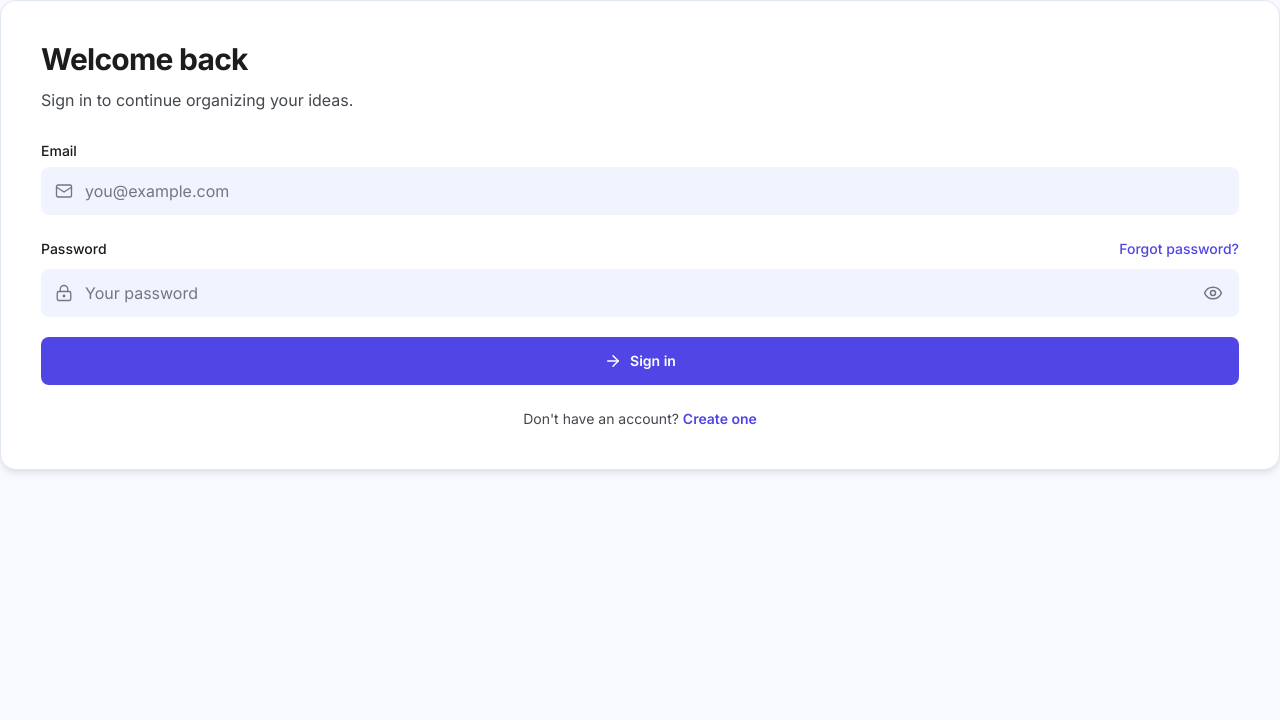
Test case: LoginPage › rejects an invalid email format
Type "not-an-email" into the field labelled "Email". click: (640, 190)
box: [41,166,1239,214]
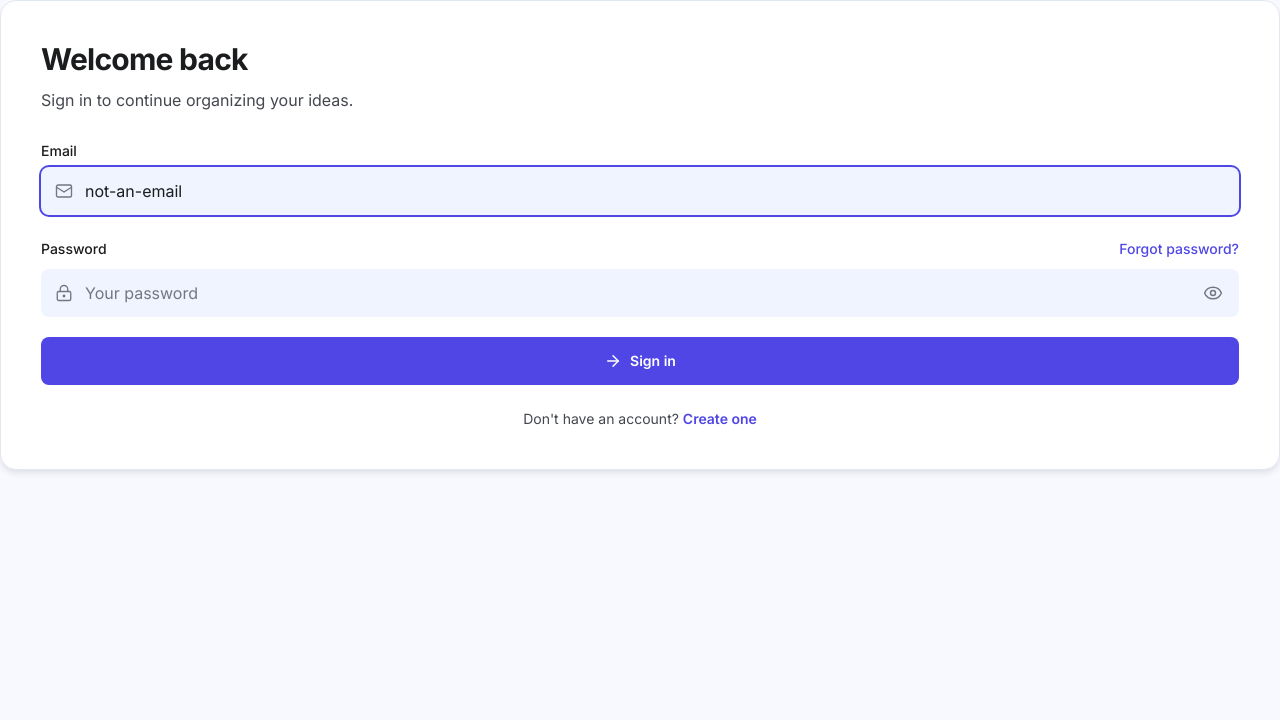
Click the button "Sign in". click: (640, 360)
box: [41,336,1239,384]
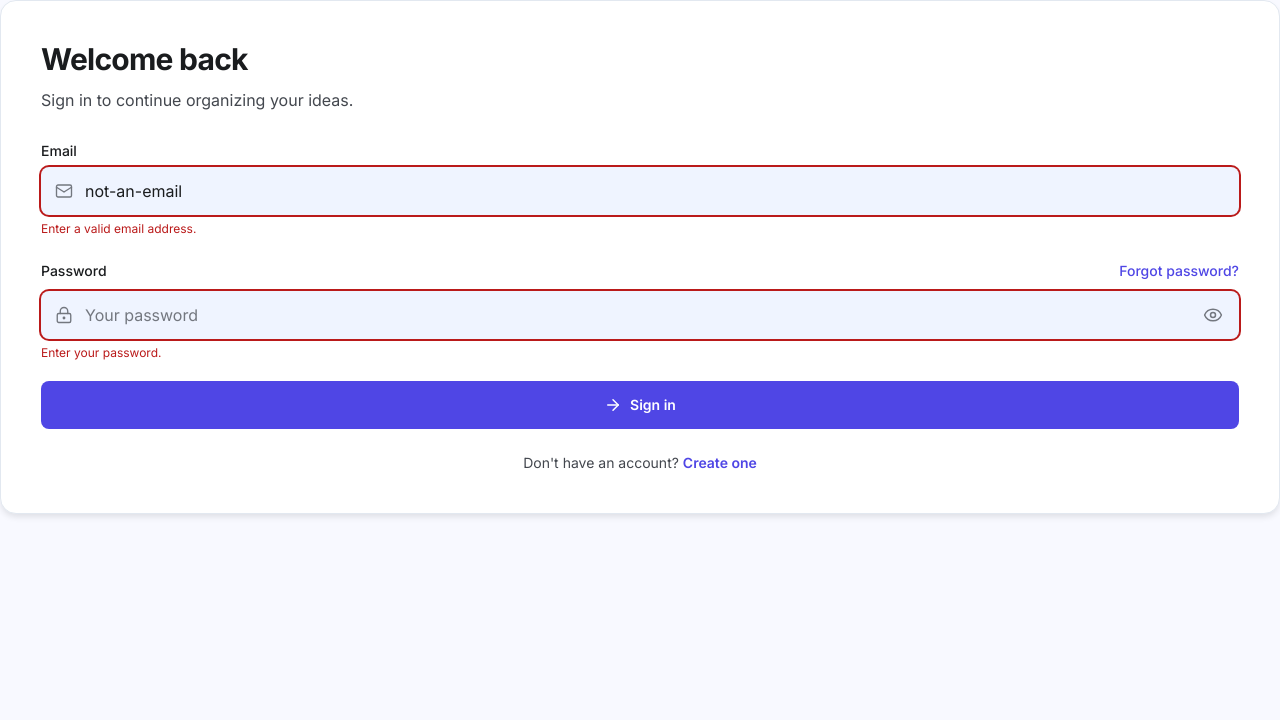
Now the text "Enter a valid email address." is shown, box [41,220,196,236]
